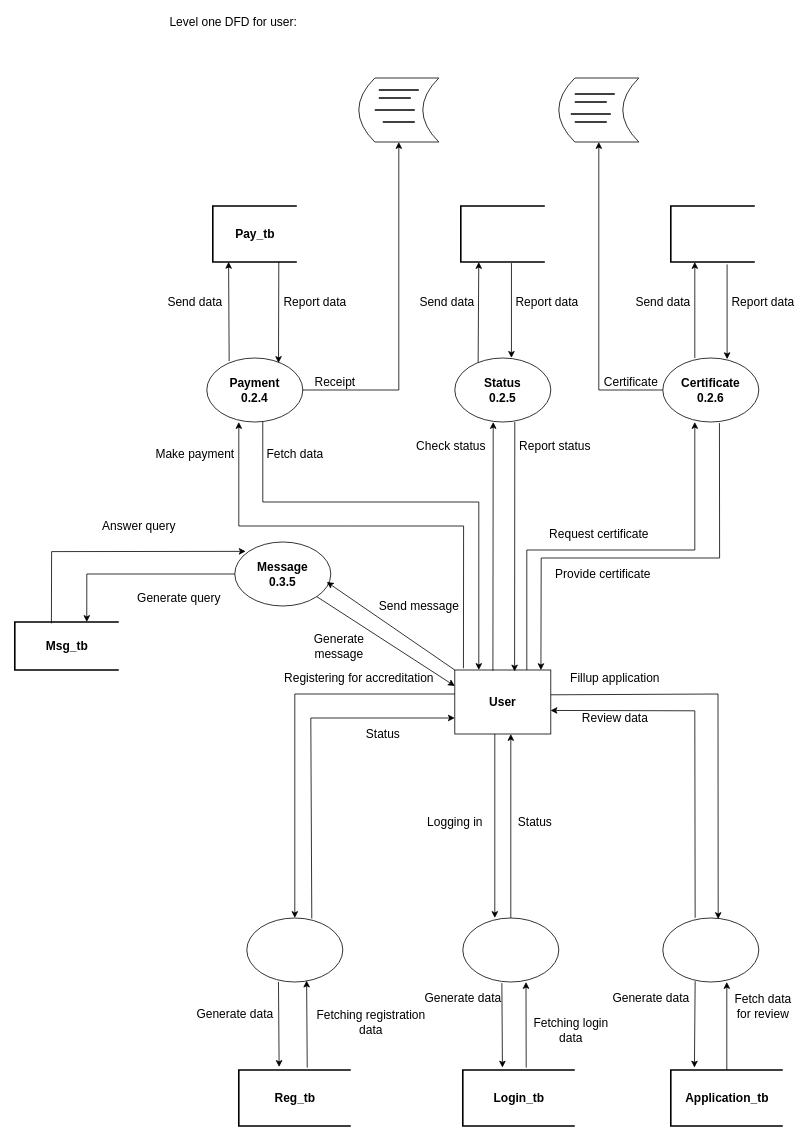
The diagram is 812 pixels wide and 1140 high, and some of its shapes have lost their labels. The shapes that lost their labels are listed below. From the top down, each one's box as (x1, y1, x2, y2) in pixels, then its label:
(460, 205, 545, 262): Sts_tb
(670, 205, 755, 262): Certify_tb
(246, 917, 343, 982): Registration 0.2.1
(462, 917, 559, 982): Login 0.2.2
(662, 917, 759, 982): Application 0.2.3
